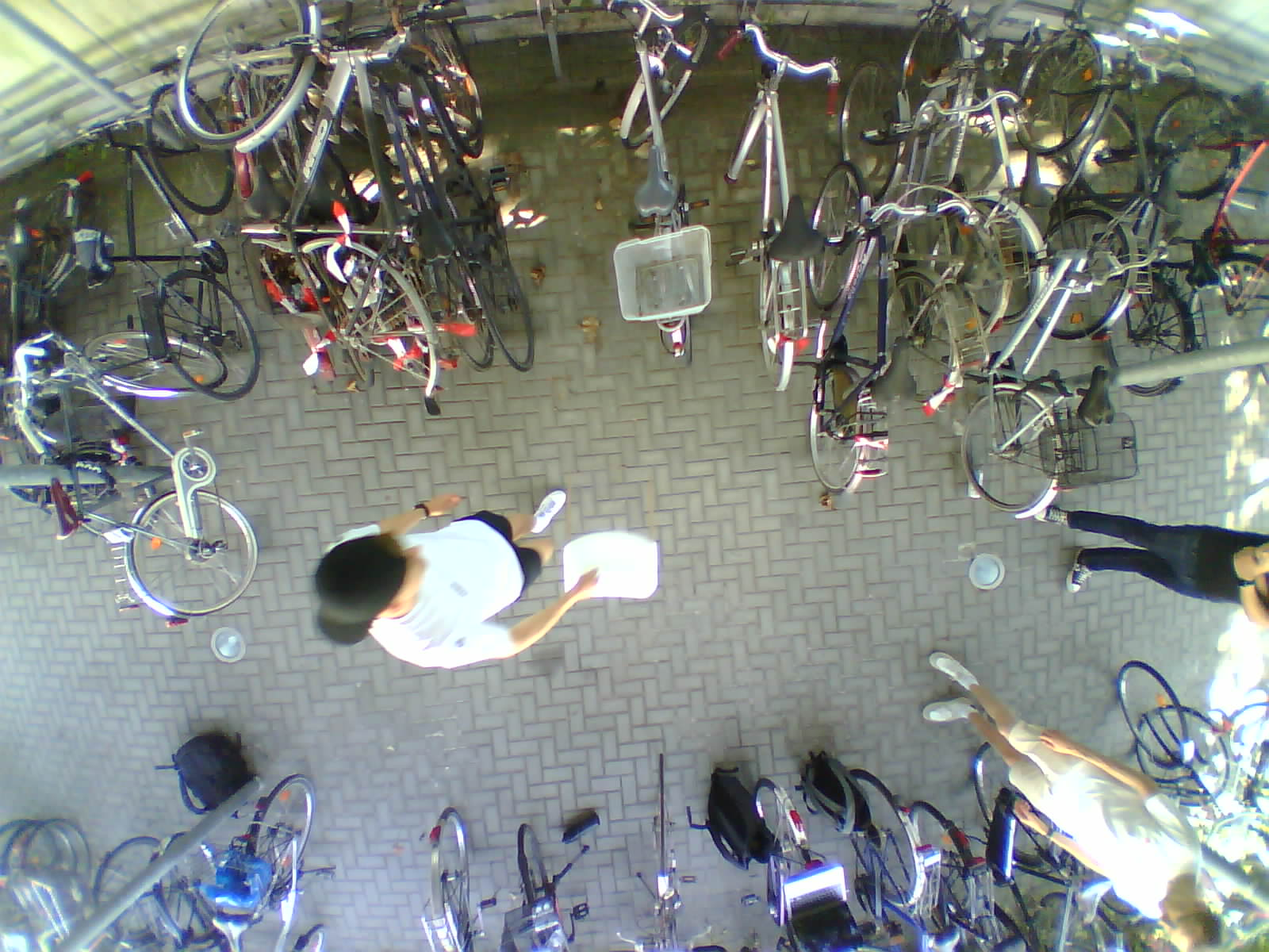bicylce: (401, 0, 534, 373), (931, 201, 1086, 519), (86, 330, 253, 620), (892, 11, 1040, 328), (1010, 11, 1143, 356), (604, 0, 714, 377), (1083, 90, 1211, 405), (126, 88, 255, 397), (727, 15, 825, 397), (812, 159, 913, 502), (217, 768, 328, 952)
saddle: (759, 195, 827, 264), (624, 142, 682, 214), (1072, 362, 1123, 429), (875, 334, 922, 403), (1147, 144, 1194, 212), (1010, 150, 1055, 206), (416, 205, 461, 261), (47, 476, 83, 545), (1179, 238, 1226, 289), (81, 232, 120, 289), (206, 913, 253, 952), (1075, 873, 1110, 921)
